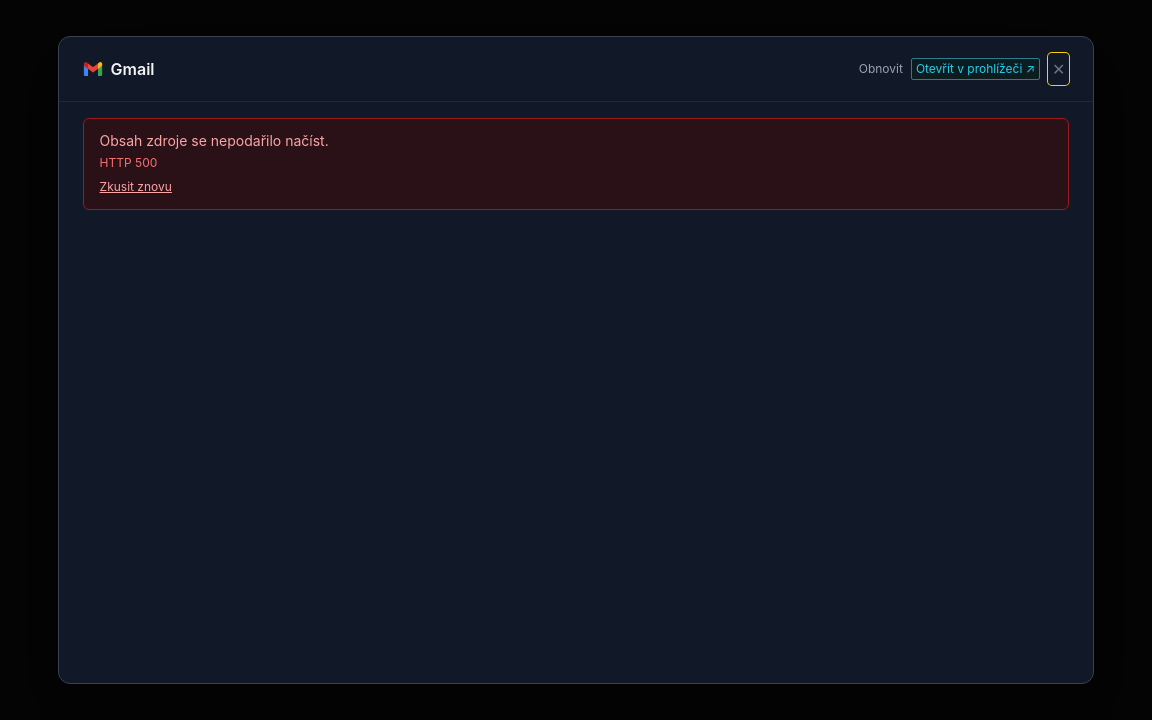
Test: SourcePreviewModal › surfaces a transport failure and retries on demand
Expected: the message "Obsah zdroje se nepodařilo načíst. HTTP 500 Zkusit znovu" is shown, [83, 118, 1069, 210]
Click the button "Zkusit znovu" at (136, 187), box [100, 179, 172, 195]
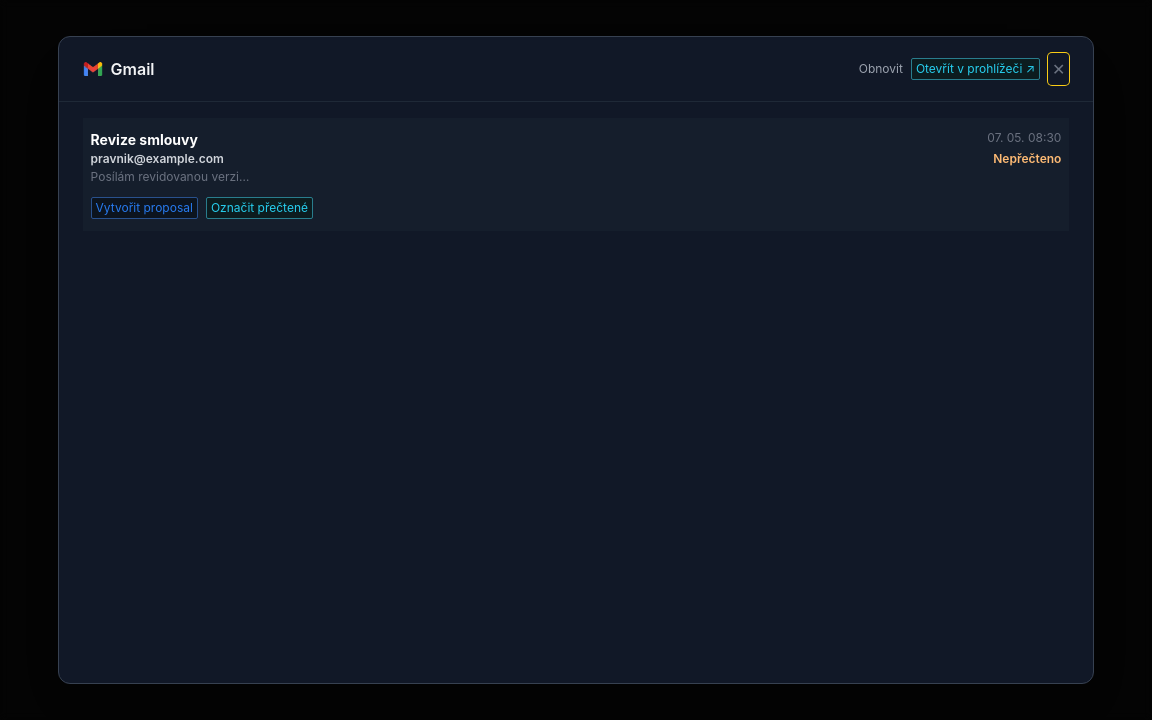
Expected: the text "Revize smlouvy" is shown, [91, 130, 198, 149]
